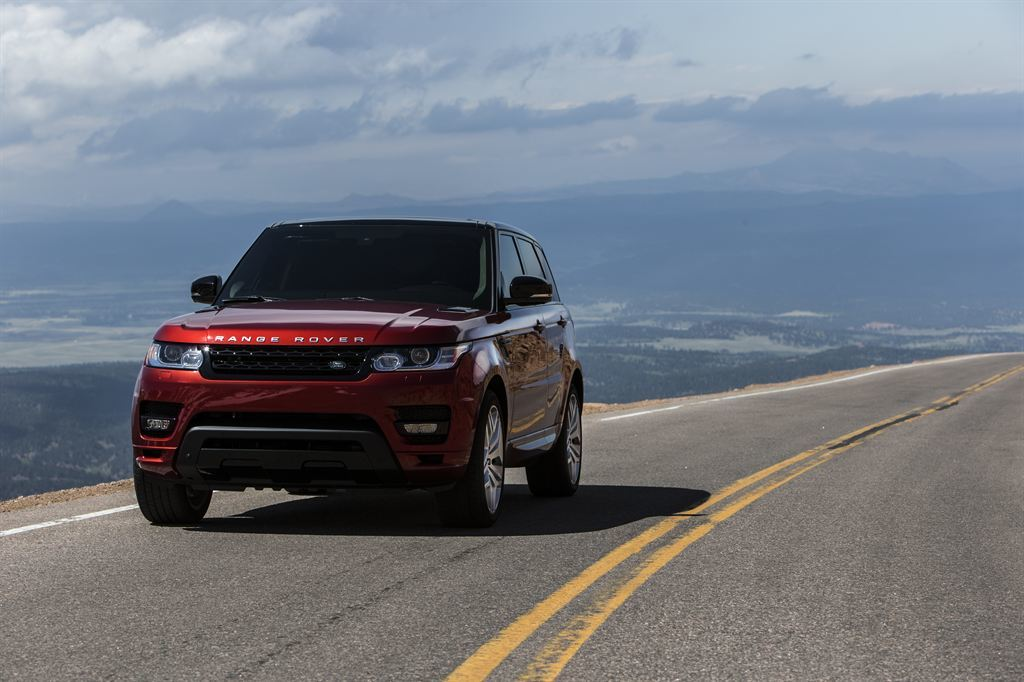Car: (129, 206, 579, 546)
